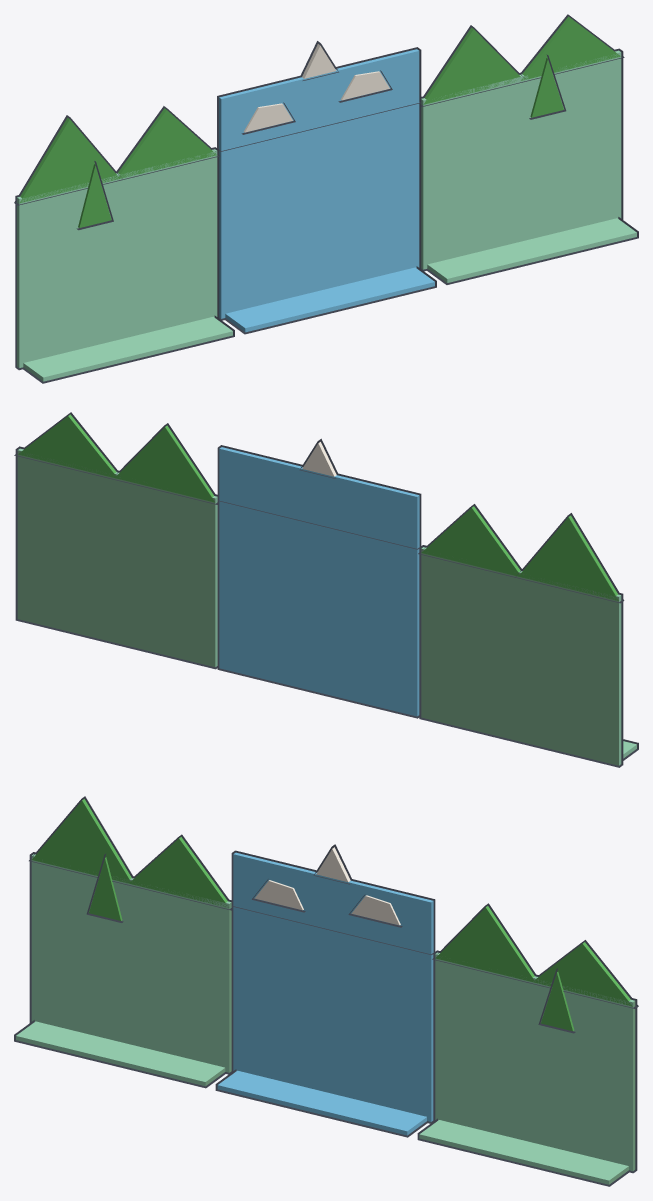
Rendered from page_popup_frame.glb.
3 views of the same model, one above another, from view 1: azimuth 30°, elevation 25°; view 2: azimuth 150°, elevation 25°; view 3: azimuth 330°, elevation 25° (orthographic).
Visible parts, largest first — view 1: panel_back, panel_left, panel_right, ink_outline (×3); view 2: panel_back, panel_left, panel_right, ink_outline (×3); view 3: panel_back, panel_left, panel_right, ink_outline (×3).
Part boxes in pixels (<box>): panel_back: <box>219,44,434,332</box>; panel_left: <box>17,108,232,381</box>; panel_right: <box>421,16,636,282</box>; ink_outline (×3): <box>14,14,638,383</box>; panel_back: <box>219,442,419,716</box>; panel_left: <box>421,506,636,765</box>; panel_right: <box>17,414,217,667</box>; ink_outline (×3): <box>14,412,638,767</box>; panel_back: <box>217,847,433,1135</box>; panel_left: <box>16,799,231,1086</box>; panel_right: <box>419,906,635,1184</box>; ink_outline (×3): <box>14,796,638,1186</box>.
Size of the model in its own units: 0.3007 by 0.1198 by 0.0202.
